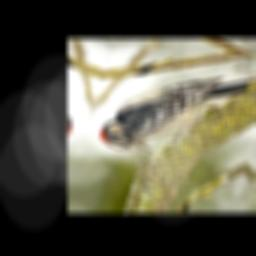Woodpecker: (94, 56, 256, 162)
